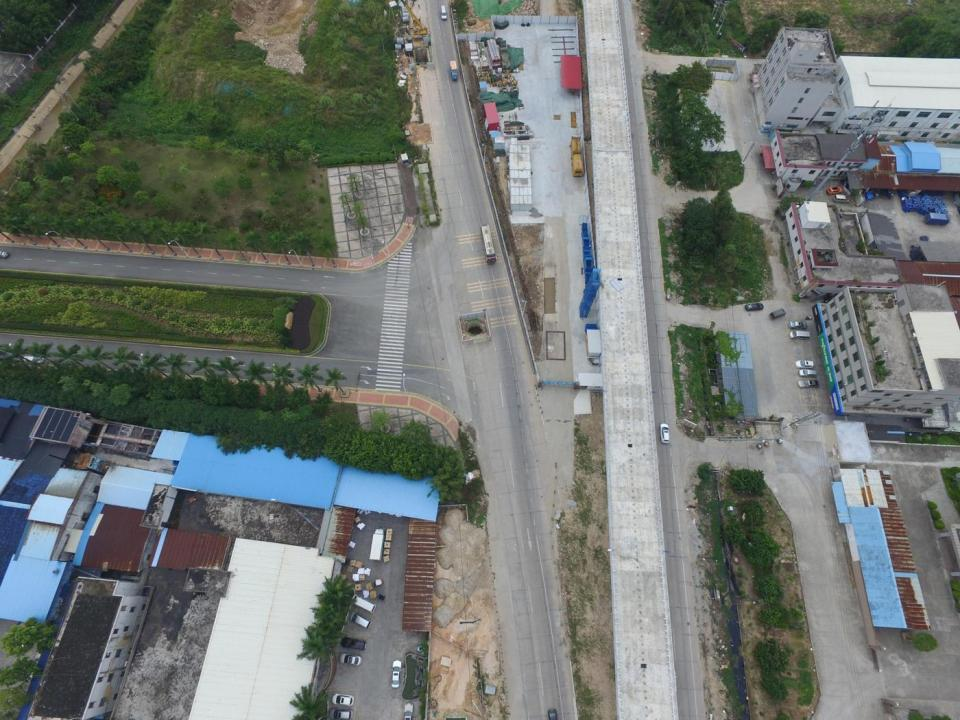bus: (481, 224, 498, 266)
car: (340, 636, 366, 652), (389, 659, 402, 688), (331, 693, 355, 707), (326, 708, 354, 720), (339, 652, 362, 666), (659, 423, 670, 445), (798, 379, 820, 389), (788, 319, 808, 330), (403, 702, 414, 720), (796, 358, 814, 369), (745, 302, 764, 312), (826, 185, 842, 196), (548, 708, 557, 720)
truck: (369, 527, 384, 562), (448, 60, 459, 81), (769, 308, 786, 320)
van: (352, 594, 376, 614), (350, 613, 372, 630), (788, 329, 810, 341), (799, 367, 817, 377), (834, 194, 850, 204), (440, 5, 448, 20)
